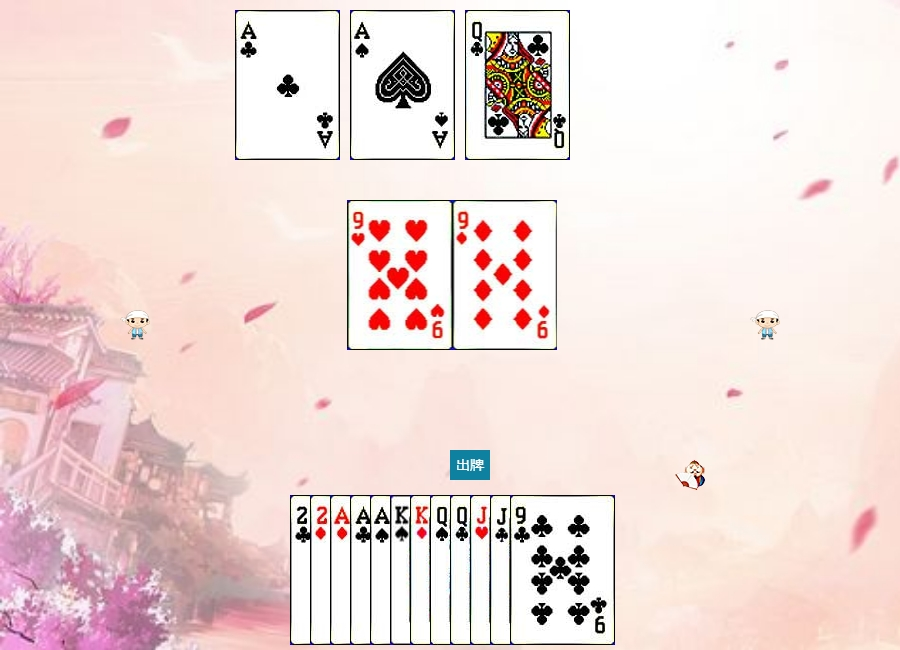11~2: (490, 495, 595, 645)
11~3: (470, 495, 575, 645)
12~2: (465, 10, 570, 160), (450, 495, 555, 645)
12~4: (430, 495, 535, 645)
13~1: (410, 495, 515, 645)
13~4: (390, 495, 495, 645)
14~1: (330, 495, 435, 645)
14~2: (235, 10, 340, 160), (350, 495, 455, 645)
14~4: (350, 10, 455, 160), (370, 495, 475, 645)
15~1: (310, 495, 415, 645)
15~2: (290, 495, 395, 645)
9~1: (453, 200, 558, 350)
9~2: (510, 495, 615, 645)
9~3: (348, 200, 453, 350)
